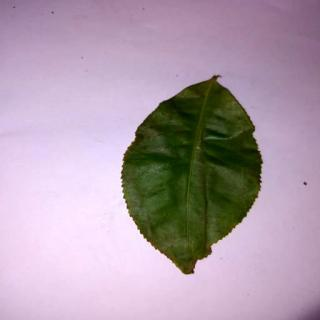Bird Eye Spot: (122, 77, 267, 277)
